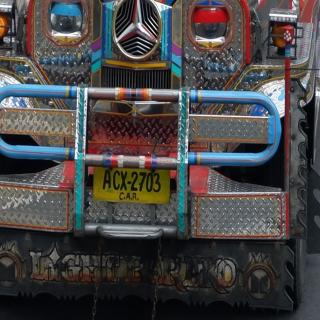license: (94, 168, 171, 204)
